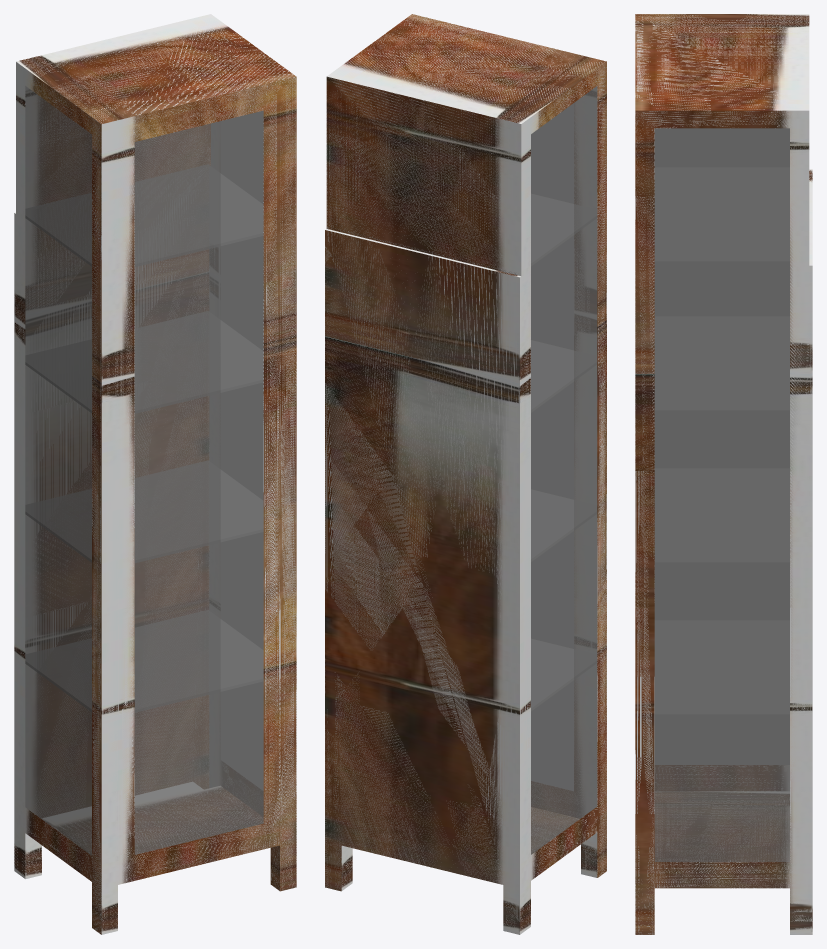
The picture shows the model from 3 angles, left to right: view 1: azimuth 30°, elevation 25°; view 2: azimuth 150°, elevation 25°; view 3: azimuth 270°, elevation 25°; orthographic projection.
Parts seen in each view (by area): view 1: mesh2_mesh2-geometry, mesh1_mesh1-geometry; view 2: mesh2_mesh2-geometry, mesh1_mesh1-geometry; view 3: mesh2_mesh2-geometry, mesh1_mesh1-geometry.
Boxes of the visible parts, left/top/right/bottom form: mesh2_mesh2-geometry: left=14, top=14, right=296, bottom=934; mesh1_mesh1-geometry: left=26, top=165, right=262, bottom=711; mesh2_mesh2-geometry: left=325, top=14, right=606, bottom=934; mesh1_mesh1-geometry: left=333, top=194, right=596, bottom=710; mesh2_mesh2-geometry: left=635, top=14, right=812, bottom=934; mesh1_mesh1-geometry: left=655, top=168, right=789, bottom=716.
Bounding box in the file's own units: 0.2399 × 0.9528 × 0.1858.
